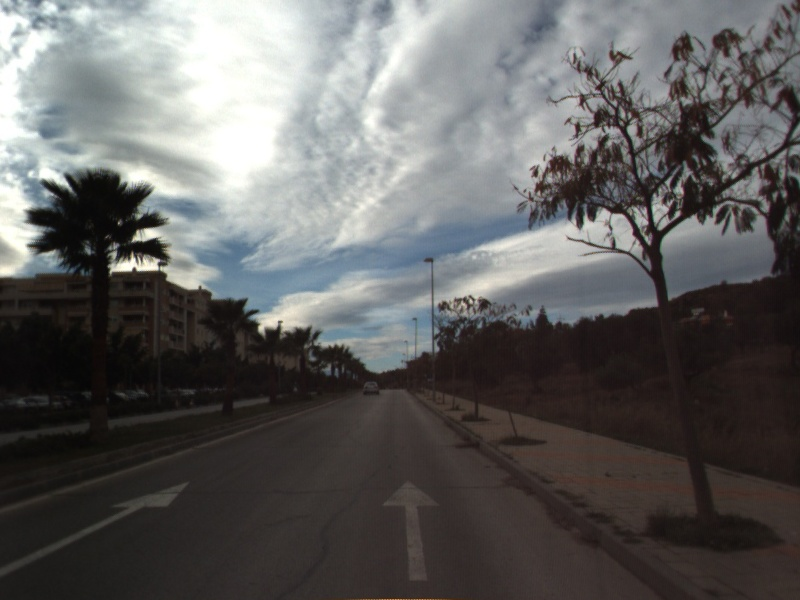STRAIGHT: (1, 479, 193, 579), (380, 477, 442, 583)
